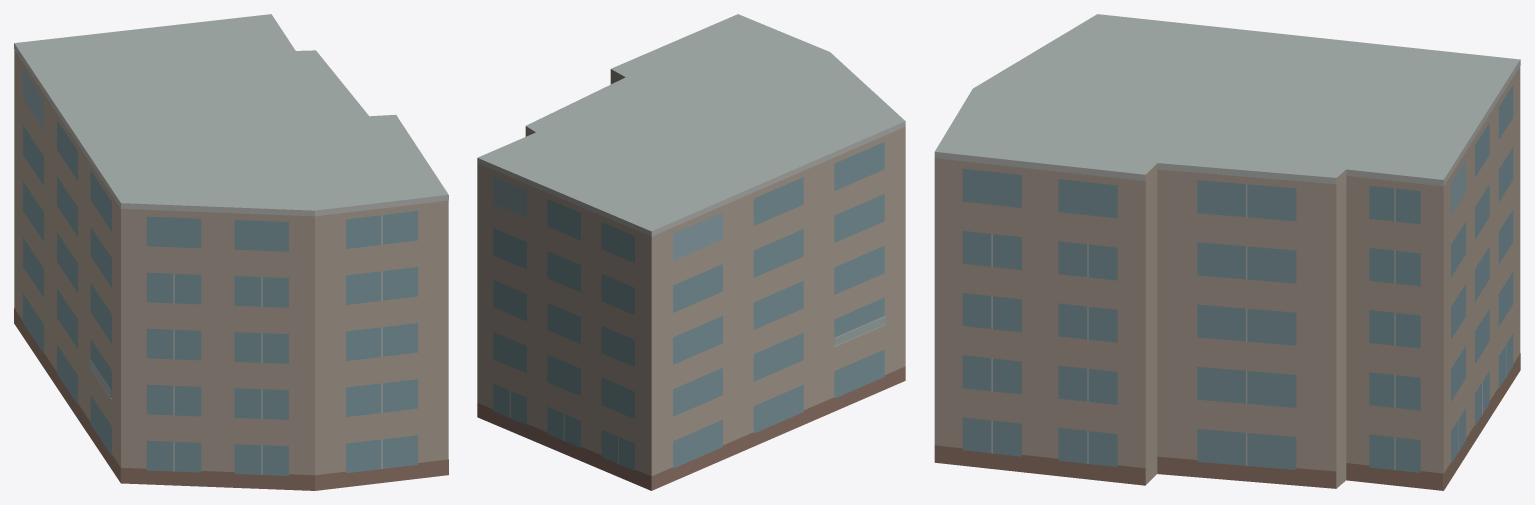
File: survey-upis-32603420.glb
The picture shows the model from 3 angles, left to right: view 1: azimuth 30°, elevation 25°; view 2: azimuth 150°, elevation 25°; view 3: azimuth 270°, elevation 25°; orthographic projection. The views are drawn at different scales.
Visible parts, largest first — view 1: survey-upis-32603420.tmp; view 2: survey-upis-32603420.tmp; view 3: survey-upis-32603420.tmp.
Part boxes in pixels (x1,y1,x2,y2): survey-upis-32603420.tmp: (14, 14, 448, 490); survey-upis-32603420.tmp: (477, 14, 905, 490); survey-upis-32603420.tmp: (934, 14, 1520, 490).
Bounding box in the file's own units: 13.64 × 11.9 × 20.33.
